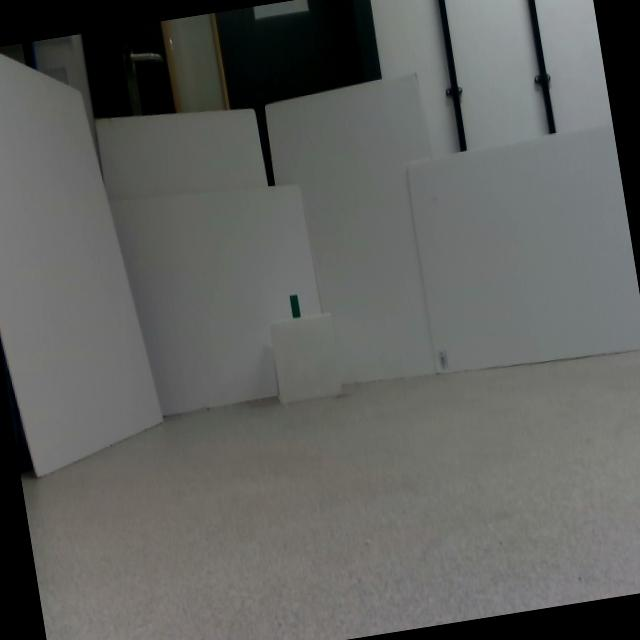green_cylinder: (290, 295, 301, 318)
